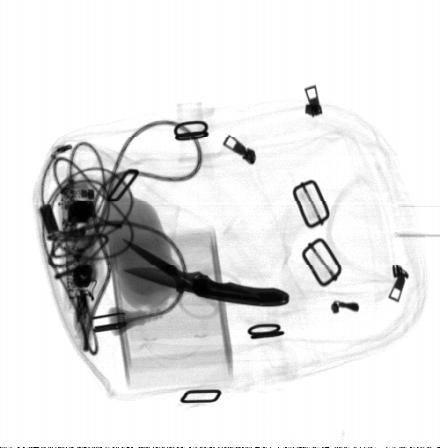Knife: (122, 266, 289, 306)
Scissors: (122, 236, 239, 321)
